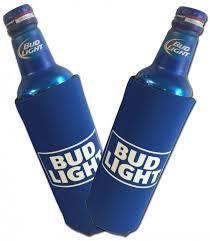Glass bottle: (0, 0, 210, 241), (171, 116, 176, 117)
